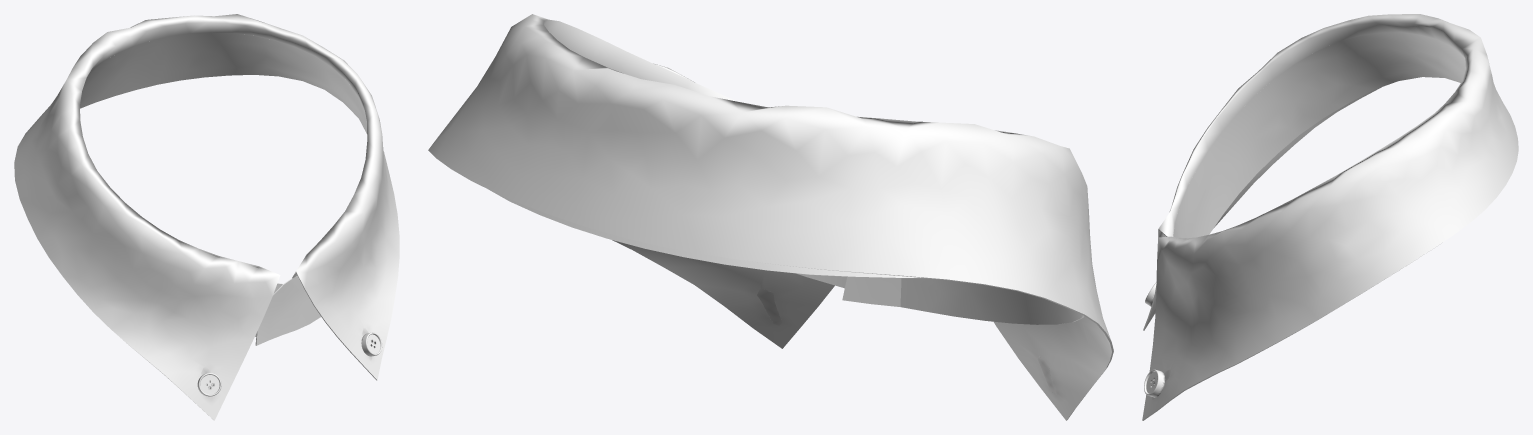
The model's file is collar-button-down.glb.
3 views of the same model, side by side, from view 1: azimuth 30°, elevation 25°; view 2: azimuth 150°, elevation 25°; view 3: azimuth 270°, elevation 25° (orthographic). The views are drawn at different scales.
Visible parts, largest first — view 1: Collar_Node, Collar_Stand_Node, MatShape_475381_Node, MatShape_475373_Node; view 2: Collar_Node, Collar_Stand_Node; view 3: Collar_Node, Collar_Stand_Node, MatShape_475373_Node.
Part boxes in pixels (bbox=[...]): Collar_Node: bbox=[14, 14, 399, 420]; Collar_Stand_Node: bbox=[80, 32, 367, 345]; MatShape_475381_Node: bbox=[197, 373, 221, 396]; MatShape_475373_Node: bbox=[361, 332, 382, 356]; Collar_Node: bbox=[428, 14, 1113, 420]; Collar_Stand_Node: bbox=[490, 190, 1084, 324]; Collar_Node: bbox=[1142, 14, 1518, 420]; Collar_Stand_Node: bbox=[1173, 32, 1465, 238]; MatShape_475373_Node: bbox=[1144, 369, 1165, 397].
Size of the model in its own units: 0.1718 by 0.1295 by 0.1388.
Materials: 3 (3 with a texture image).
